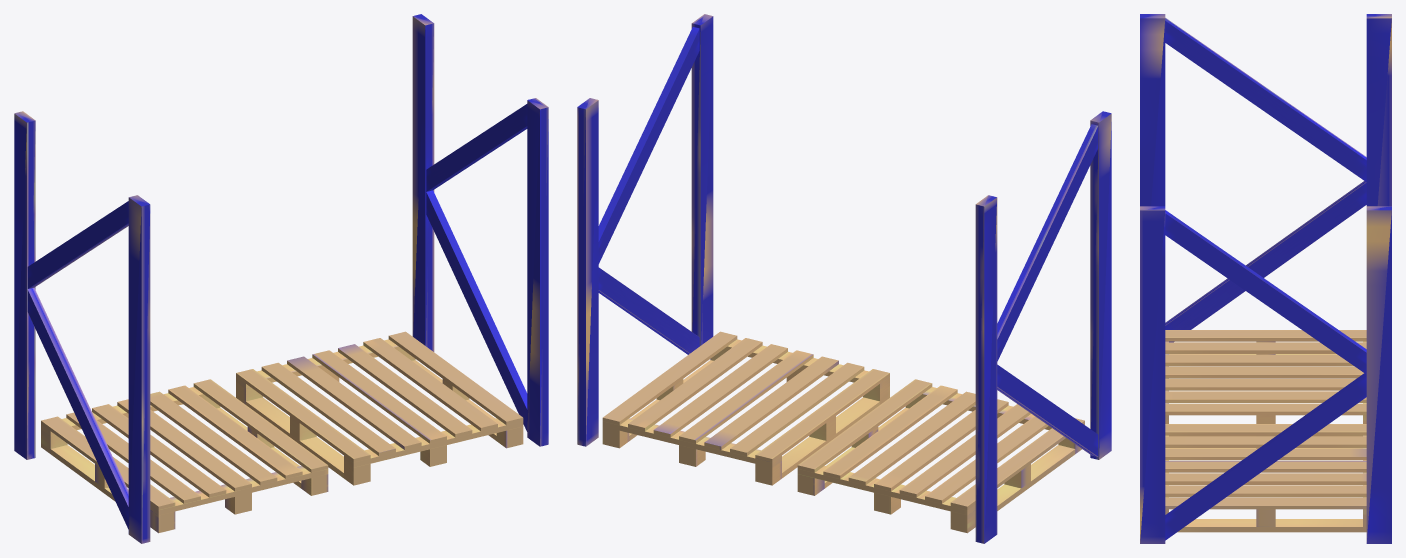
Rendered from Longarina_Junto_2pallets_chao_128px.glb.
3 renders of one model, left to right at view 1: azimuth 30°, elevation 25°; view 2: azimuth 150°, elevation 25°; view 3: azimuth 270°, elevation 25°, orthographic.
Parts seen in each view (by area): view 1: Cube.002; view 2: Cube.002; view 3: Cube.002.
Boxes of the visible parts, <box> form: Cube.002: <box>14,14,548,543</box>; Cube.002: <box>577,14,1111,543</box>; Cube.002: <box>1140,14,1391,543</box>.
Size of the model in its own units: 2.4 by 1.9 by 1.3.
Materials: 1 (1 with a texture image).
